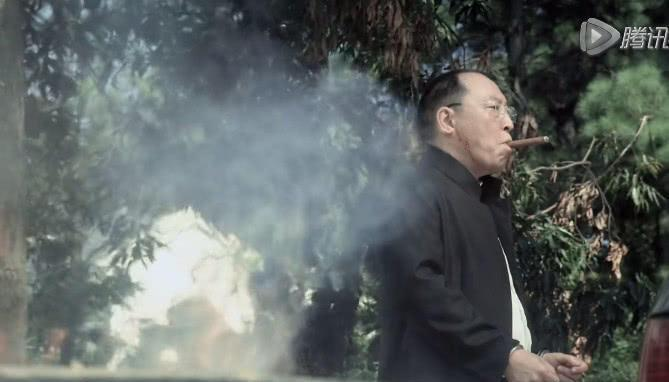smoking: (507, 135, 556, 167)
